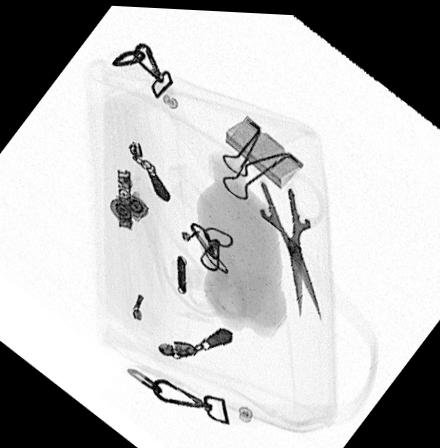Scissors: (219, 146, 325, 319)
